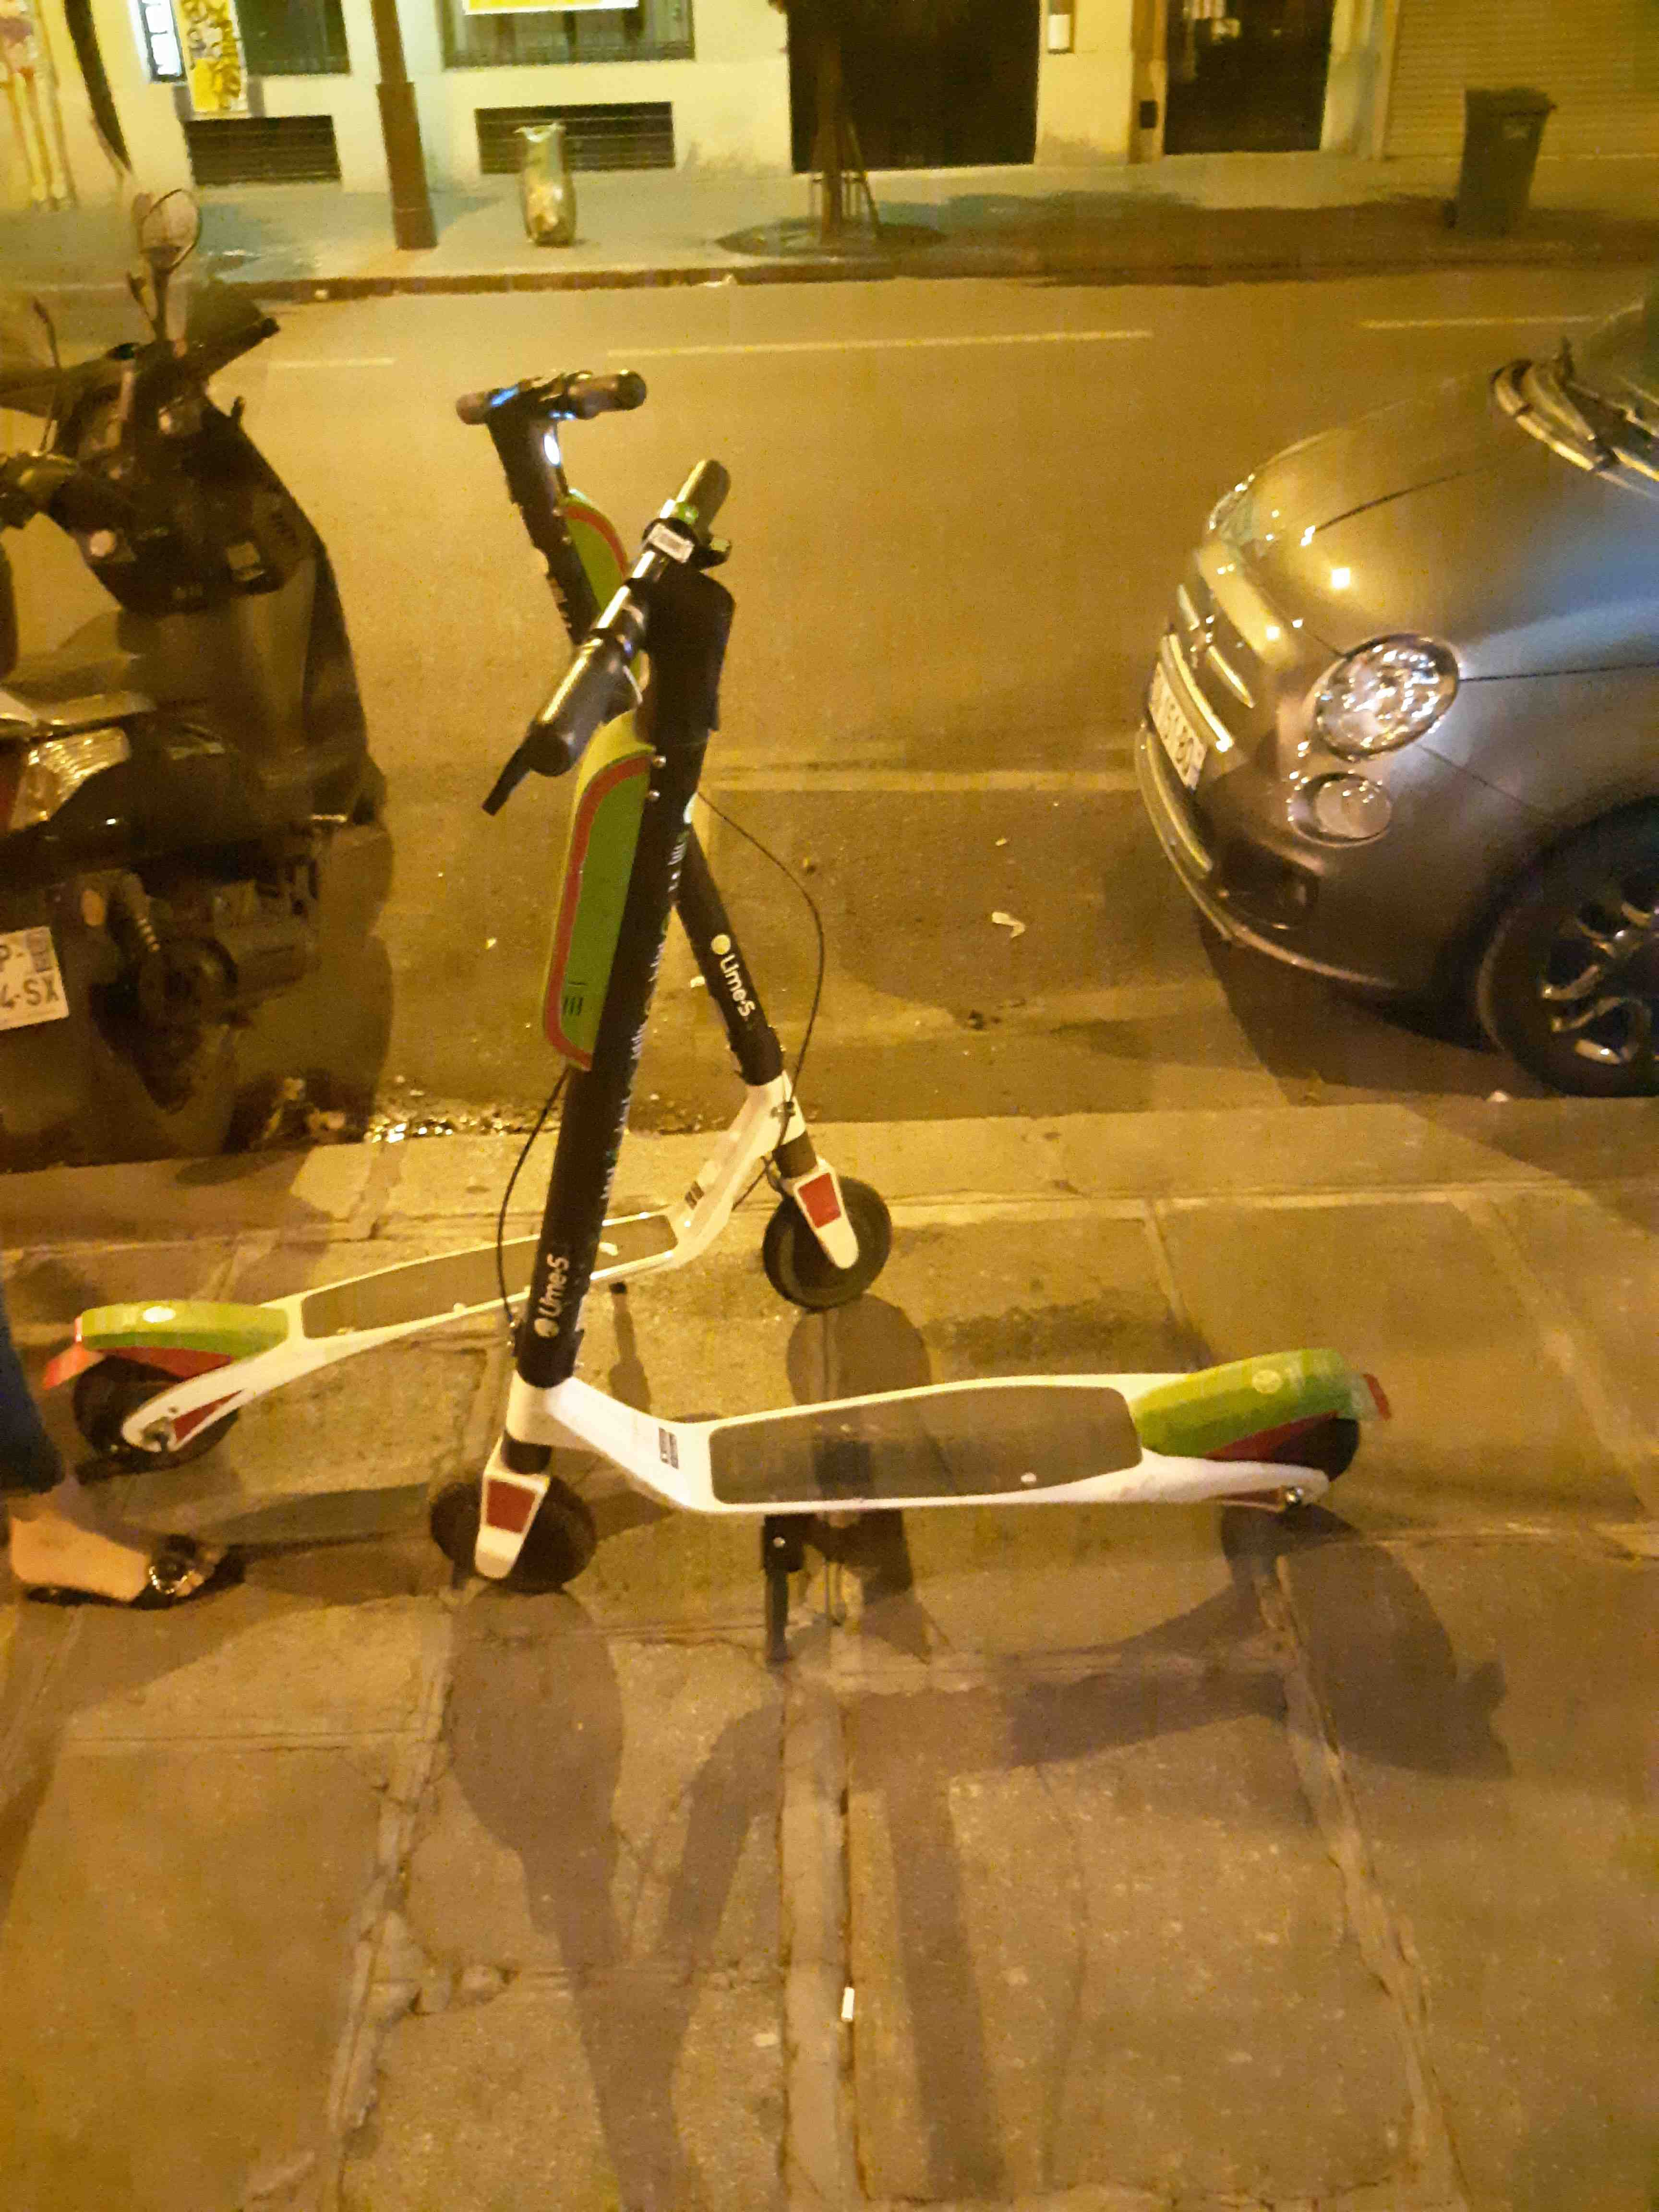scooter: (416, 369, 1406, 1625)
